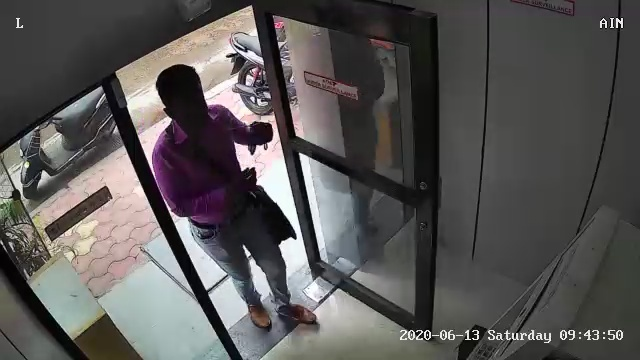open: (101, 3, 456, 360)
